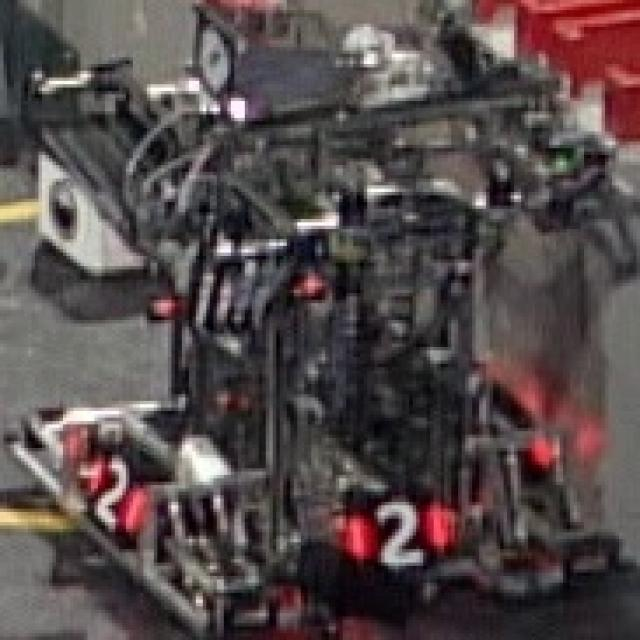R2: (346, 495, 448, 566), (84, 448, 147, 532)
